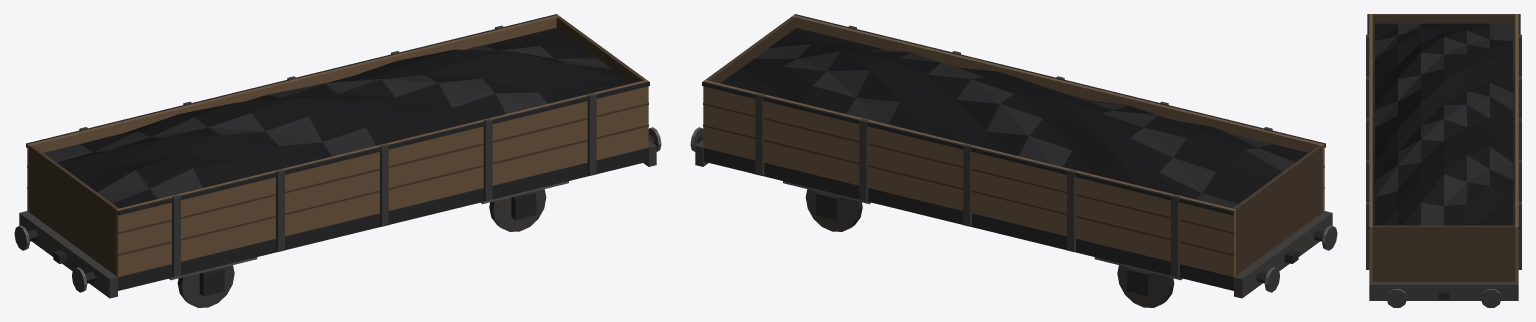
Rendered from wagon_coal.glb.
The picture shows the model from 3 angles, left to right: view 1: azimuth 30°, elevation 25°; view 2: azimuth 150°, elevation 25°; view 3: azimuth 270°, elevation 25°; orthographic projection. The views are drawn at different scales.
Visible parts, largest first — view 1: wagon_coal_LOD0; view 2: wagon_coal_LOD0; view 3: wagon_coal_LOD0.
Boxes of the visible parts, left/top/right/bottom form: wagon_coal_LOD0: left=14, top=14, right=661, bottom=307; wagon_coal_LOD0: left=690, top=14, right=1337, bottom=307; wagon_coal_LOD0: left=1366, top=14, right=1521, bottom=307.
Size of what is drawn, in the model's own units: 10 by 2.7 by 2.84.
Materials: 1 (1 with a texture image).
